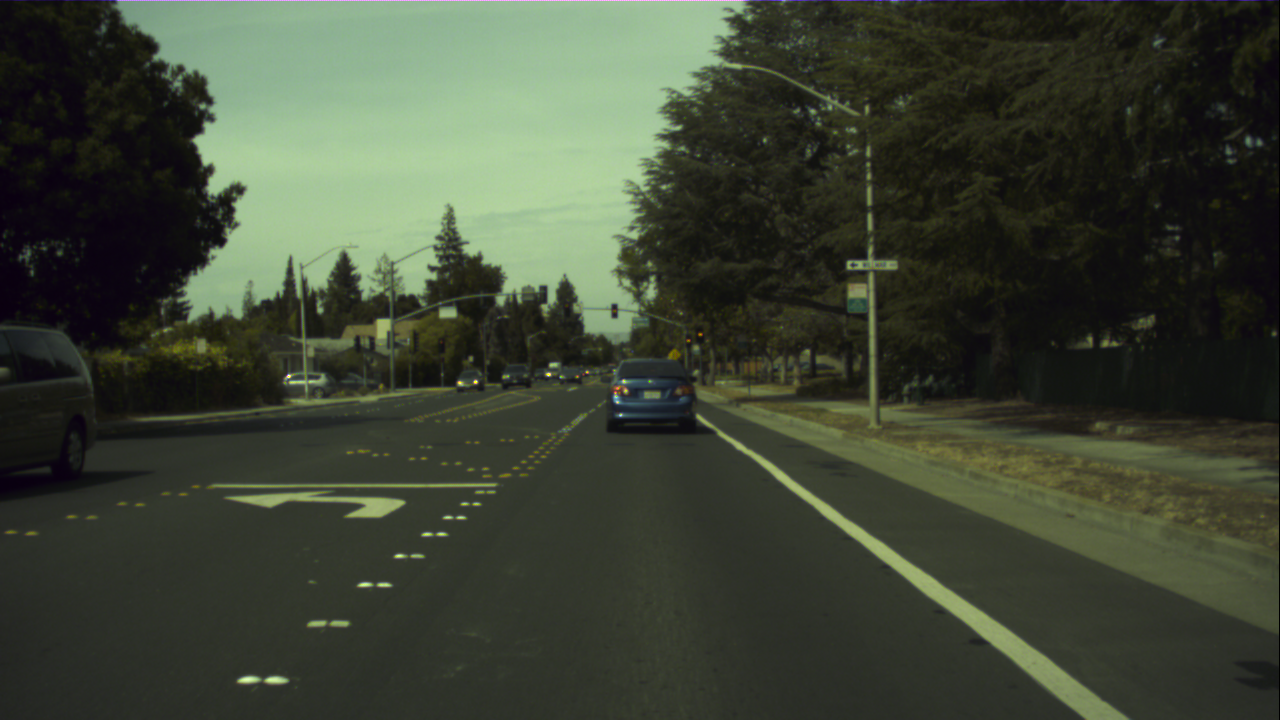Red: (564, 302, 570, 315), (438, 338, 443, 351)
Yellow: (696, 326, 703, 342), (611, 304, 617, 317), (686, 335, 691, 347)
